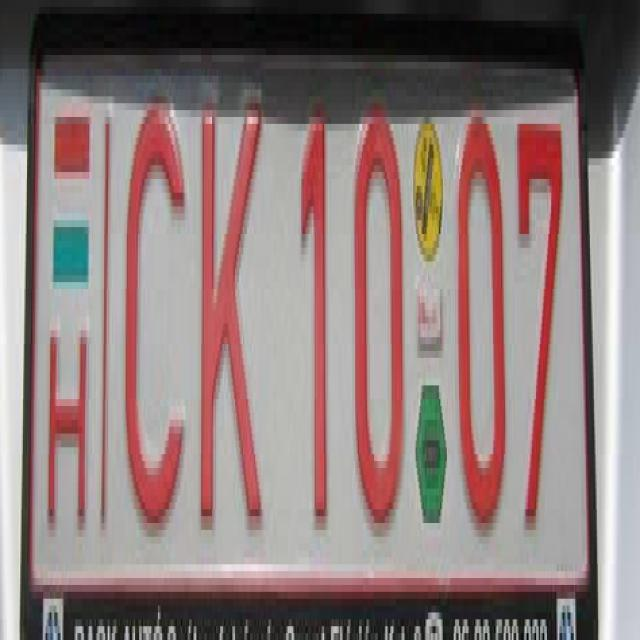Autre: (26, 27, 598, 636)
